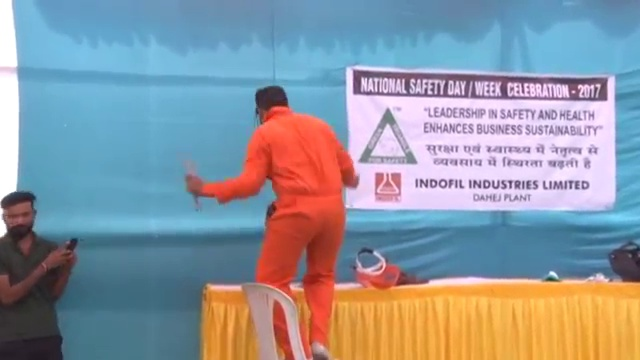helmet_off: (1, 192, 38, 240), (253, 84, 292, 124)
person: (193, 83, 353, 360), (1, 189, 91, 359)
